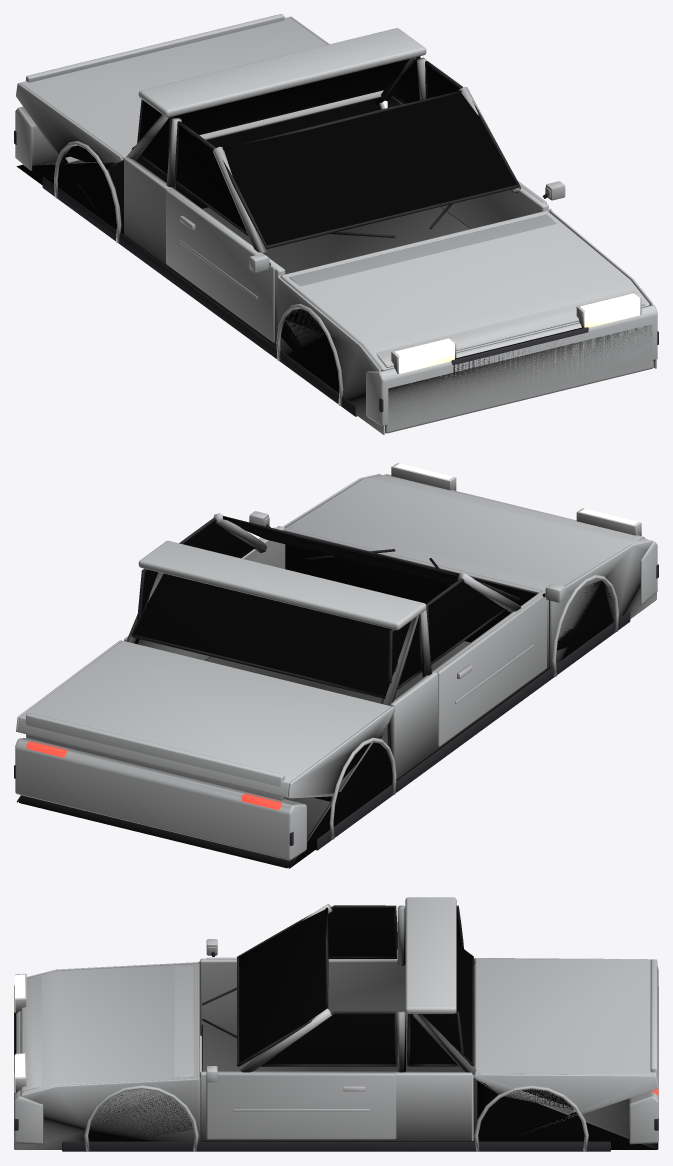
The model's file is car_coupe.glb.
The picture shows the model from 3 angles, top to bottom: view 1: azimuth 30°, elevation 25°; view 2: azimuth 150°, elevation 25°; view 3: azimuth 270°, elevation 25°; orthographic projection. The views are drawn at different scales.
Parts seen in each view (by area): view 1: nose, front_windshield, tail, front_bumper, roof, front_left_door, bonnet, front_left_wing, rear_left_quarter, floor_pan, rear_windshield, cabin_left (+14 smaller); view 2: tail, nose, rear_windshield, rear_bumper, roof, front_left_door, rear_left_quarter, front_left_wing, boot, cabin_left, bonnet, sill_l (+16 smaller); view 3: tail, nose, front_right_door, front_right_wing, front_windshield, rear_right_quarter, cabin_right, cabin_left, roof, sill_r, front_right_window, bonnet (+18 smaller).
Part boxes in pixels (x1,y1,x2,y2): nose: (280,210,653,433); front_windshield: (224,93,515,245); tail: (19,17,383,234); front_bumper: (366,304,657,426); roof: (138,28,426,117); front_left_door: (166,189,276,342); bonnet: (289,214,645,367); front_left_wing: (277,275,384,434); rear_left_quarter: (16,83,123,229); floor_pan: (202,206,470,274); rear_windshield: (173,60,404,133); cabin_left: (124,157,285,345); tail: (18,640,391,868); nose: (285,475,648,667); rear_windshield: (134,573,391,695); rear_bumper: (15,738,306,860); roof: (138,540,426,630); front_left_door: (436,593,546,746); rear_left_quarter: (287,706,394,868); front_left_wing: (549,540,656,667); boot: (26,713,284,800); cabin_left: (387,590,548,779); bonnet: (289,474,645,590); sill_l: (316,610,630,850); tail: (473,958,658,1148); nose: (21,963,200,1094); front_right_door: (206,1072,396,1139); front_right_wing: (14,1077,200,1149); front_windshield: (239,909,326,1062); rear_right_quarter: (473,1074,658,1149); cabin_right: (200,1071,472,1140); cabin_left: (200,958,407,1035); roof: (405,897,456,1013); sill_r: (62,1141,610,1151); front_right_window: (264,1014,395,1064); bonnet: (21,965,193,1091).
Bounding box in the file's own units: 2.1 × 1.04 × 4.3.
